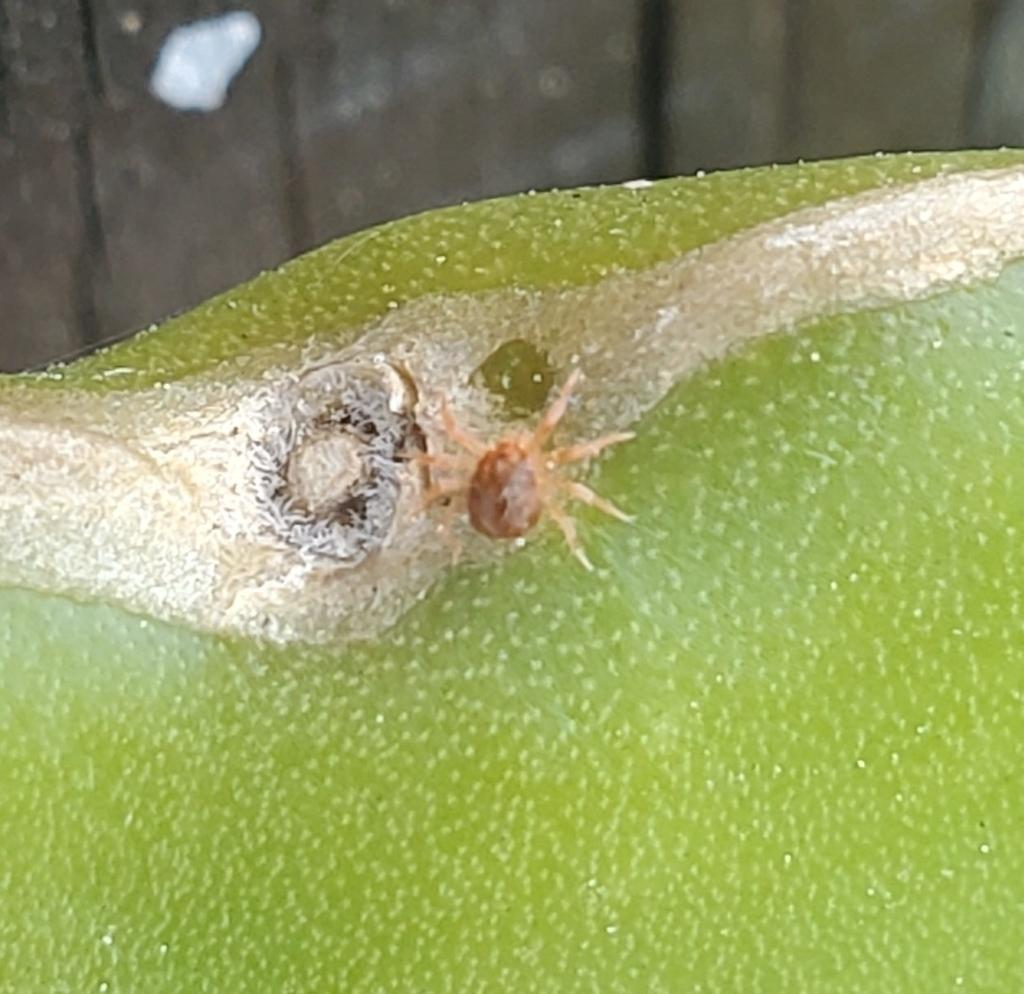tiny_pests: (333, 313, 687, 617)
